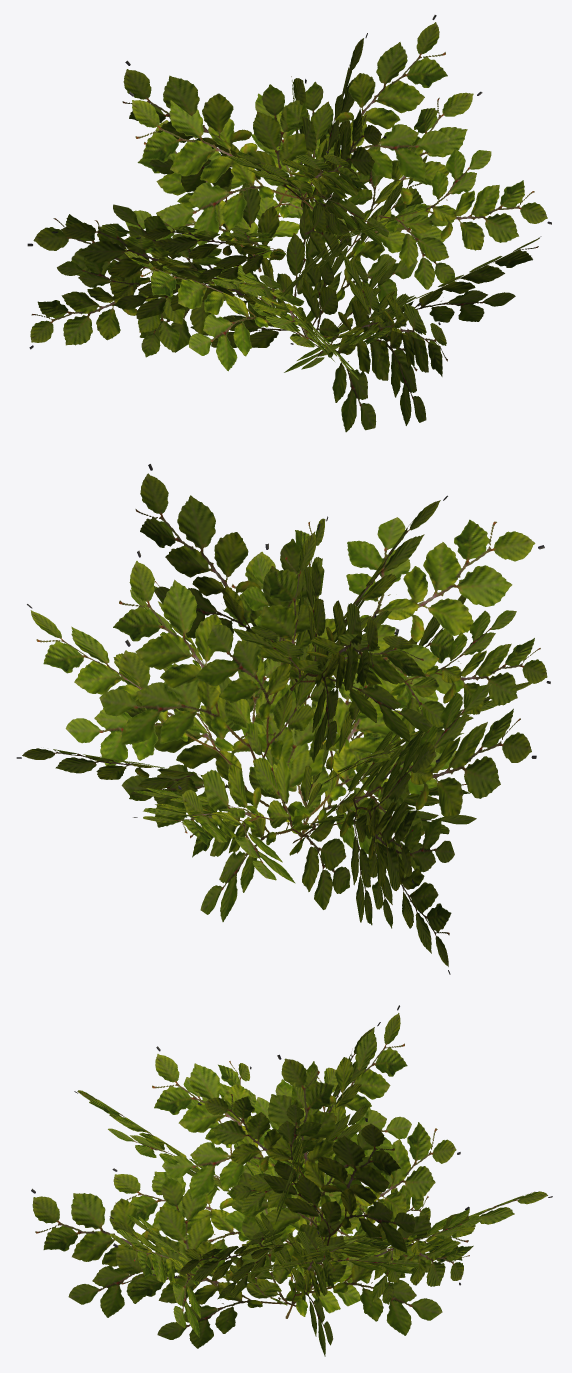
Rendered from bush_02.fbx.
The picture shows the model from 3 angles, top to bottom: view 1: azimuth 30°, elevation 25°; view 2: azimuth 150°, elevation 25°; view 3: azimuth 270°, elevation 25°; orthographic projection. The views are drawn at different scales.
Visible parts, largest first — view 1: bush_02; view 2: bush_02; view 3: bush_02.
Part boxes in pixels (box(x1,y1,x2,y2)): bush_02: box(27, 15, 551, 432); bush_02: box(16, 464, 550, 974); bush_02: box(31, 1005, 552, 1356).
Bounding box in the file's own units: 209 × 159 × 245.
